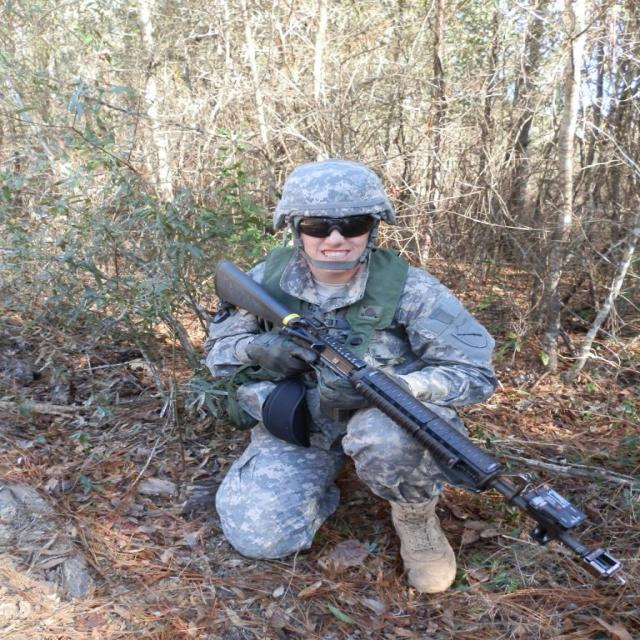weapon: (217, 259, 618, 576)
